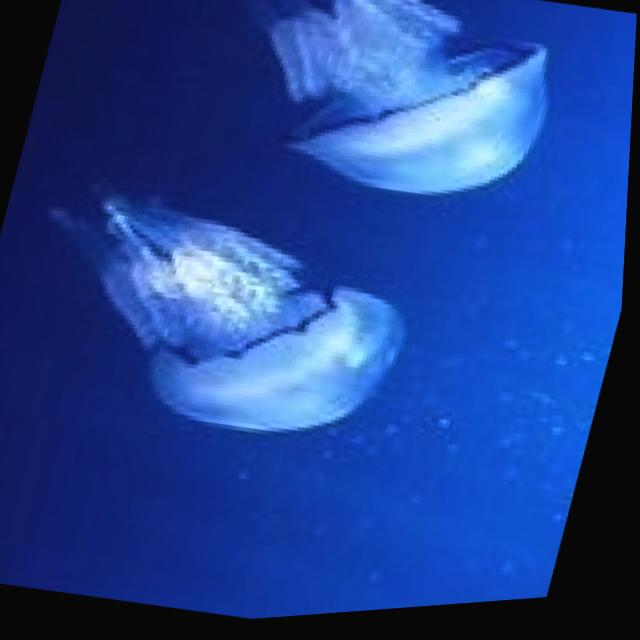Box-jellyfish: (0, 153, 444, 483), (159, 0, 582, 242)
